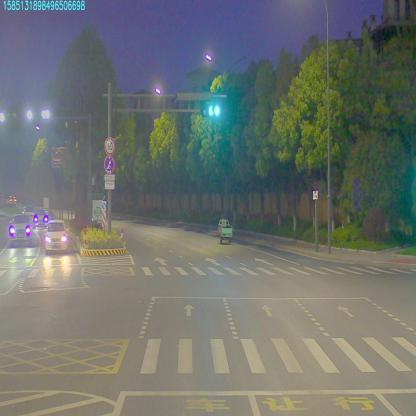traffic-light: (202, 101, 219, 116)
